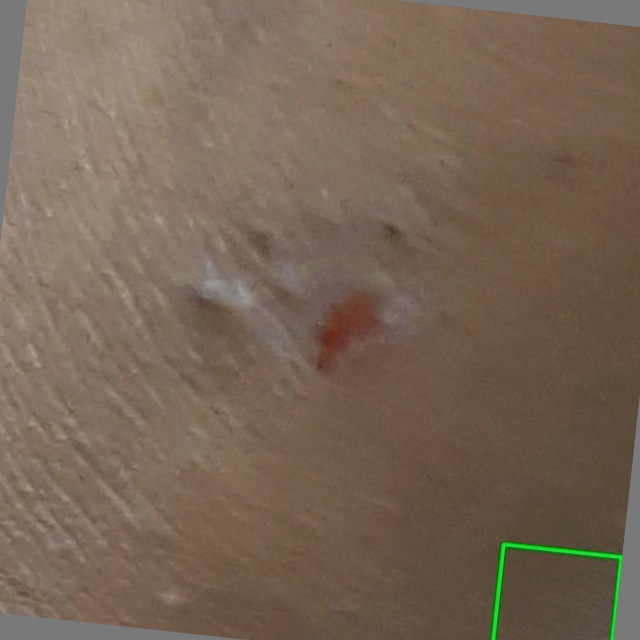Atopic Dermatitis: (493, 544, 621, 639)
